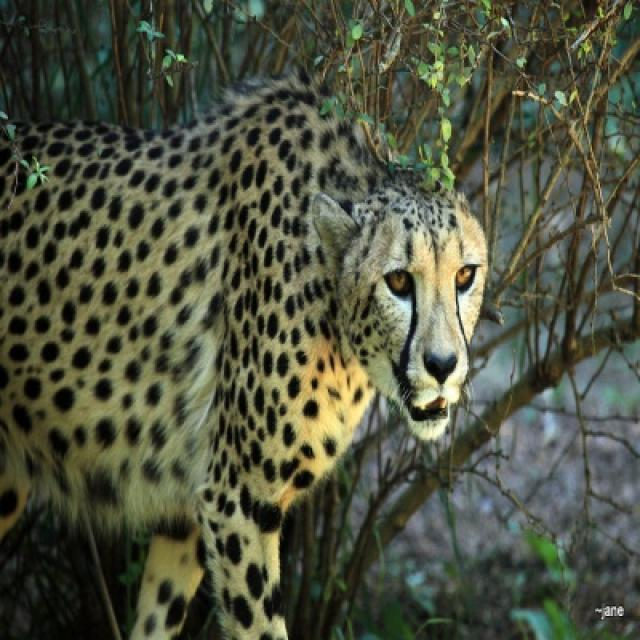Cheetah: (0, 80, 486, 638)
